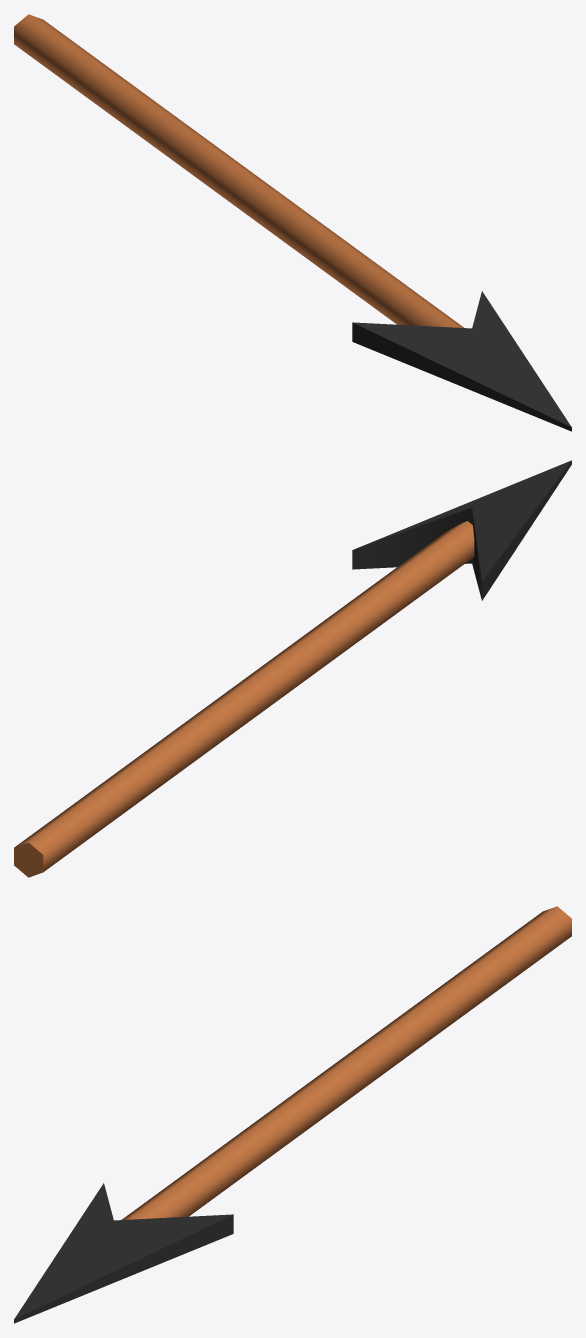
3 views of the same model, one above another, from view 1: azimuth 30°, elevation 25°; view 2: azimuth 150°, elevation 25°; view 3: azimuth 330°, elevation 25° (orthographic).
Visible parts, largest first — view 1: Cylinder001, Box001; view 2: Cylinder001, Box001; view 3: Cylinder001, Box001.
Part boxes in pixels (x1=…): Cylinder001: x1=14, y1=14, x2=463, y2=327; Box001: x1=352, y1=291, x2=571, y2=431; Cylinder001: x1=14, y1=521, x2=474, y2=877; Box001: x1=352, y1=460, x2=571, y2=600; Cylinder001: x1=122, y1=906, x2=571, y2=1219; Box001: x1=14, y1=1183, x2=233, y2=1323.
Size of the model in its own units: 4.84 by 2 by 35.11.
